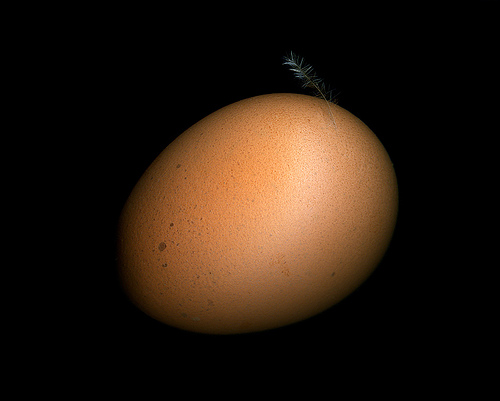egg: (115, 90, 397, 337)
